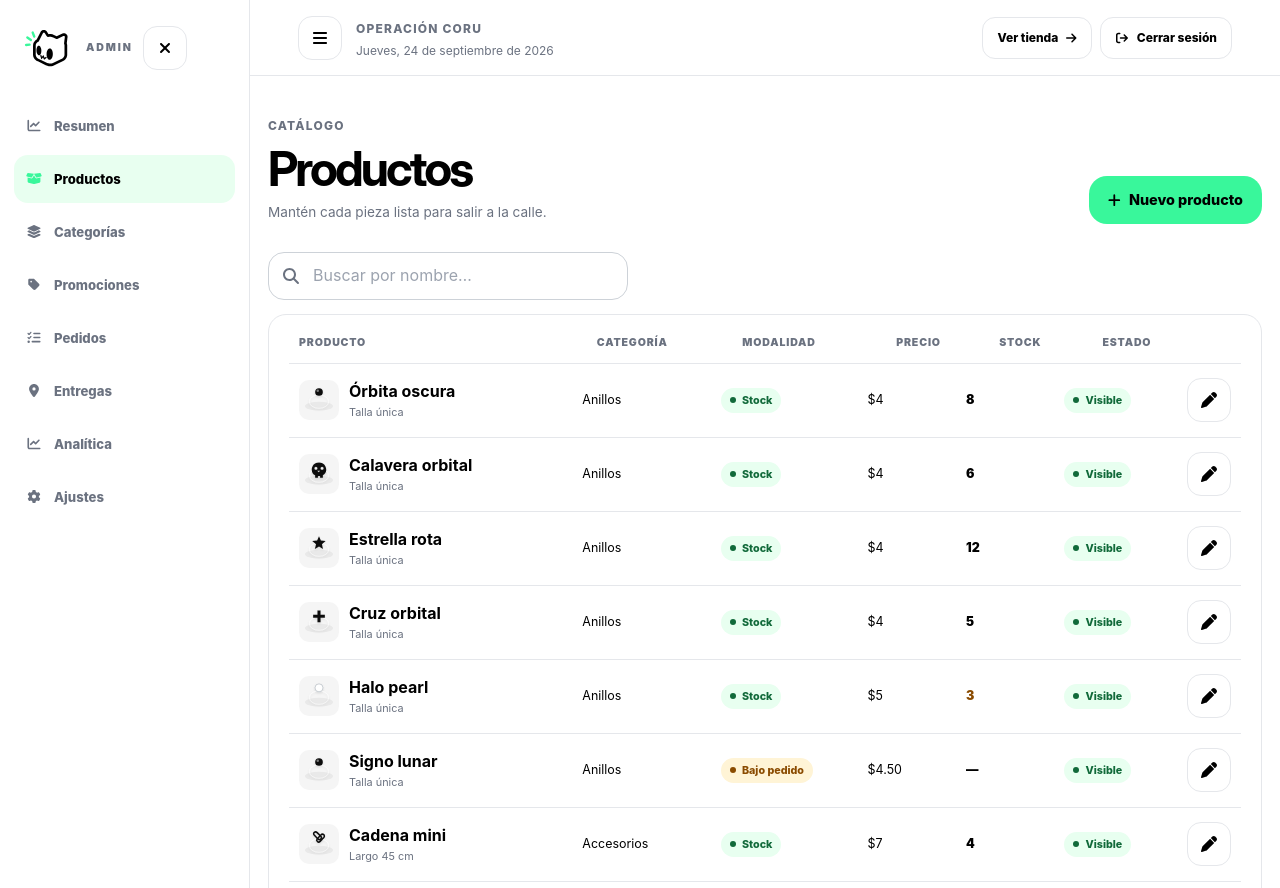
Test case: Admin operational shell › opens the product editor directly below the selected product
The image size is (1280, 888).
Click the button named "Editar Órbita oscura" at x=1209, y=400, box [1187,378,1231,422]
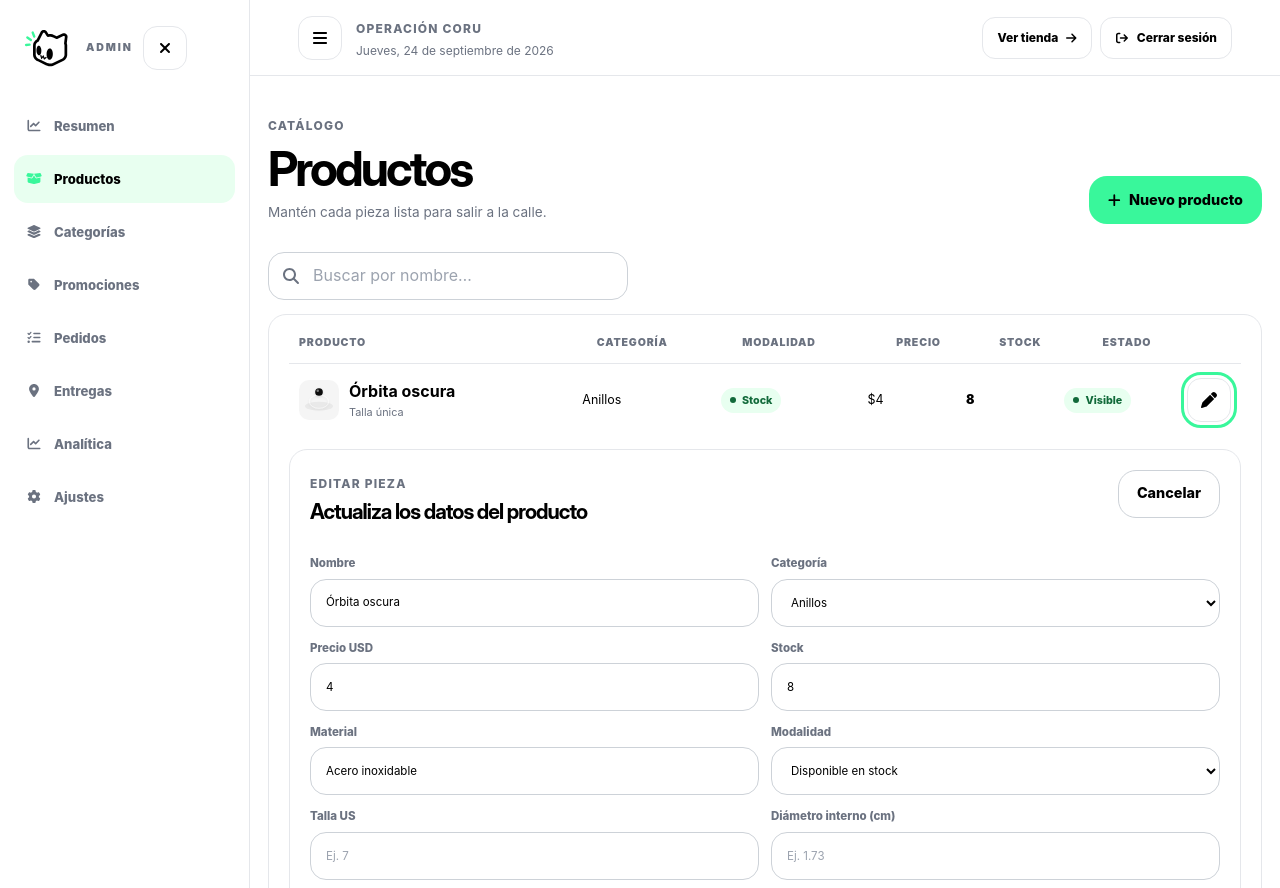
Result: the heading "Actualiza los datos del producto" is shown at [310,500,587,524]
